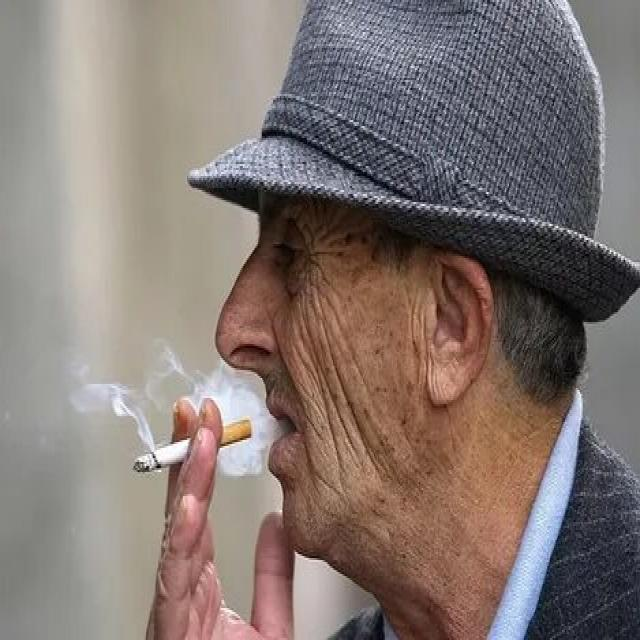smoke: (128, 412, 257, 488)
